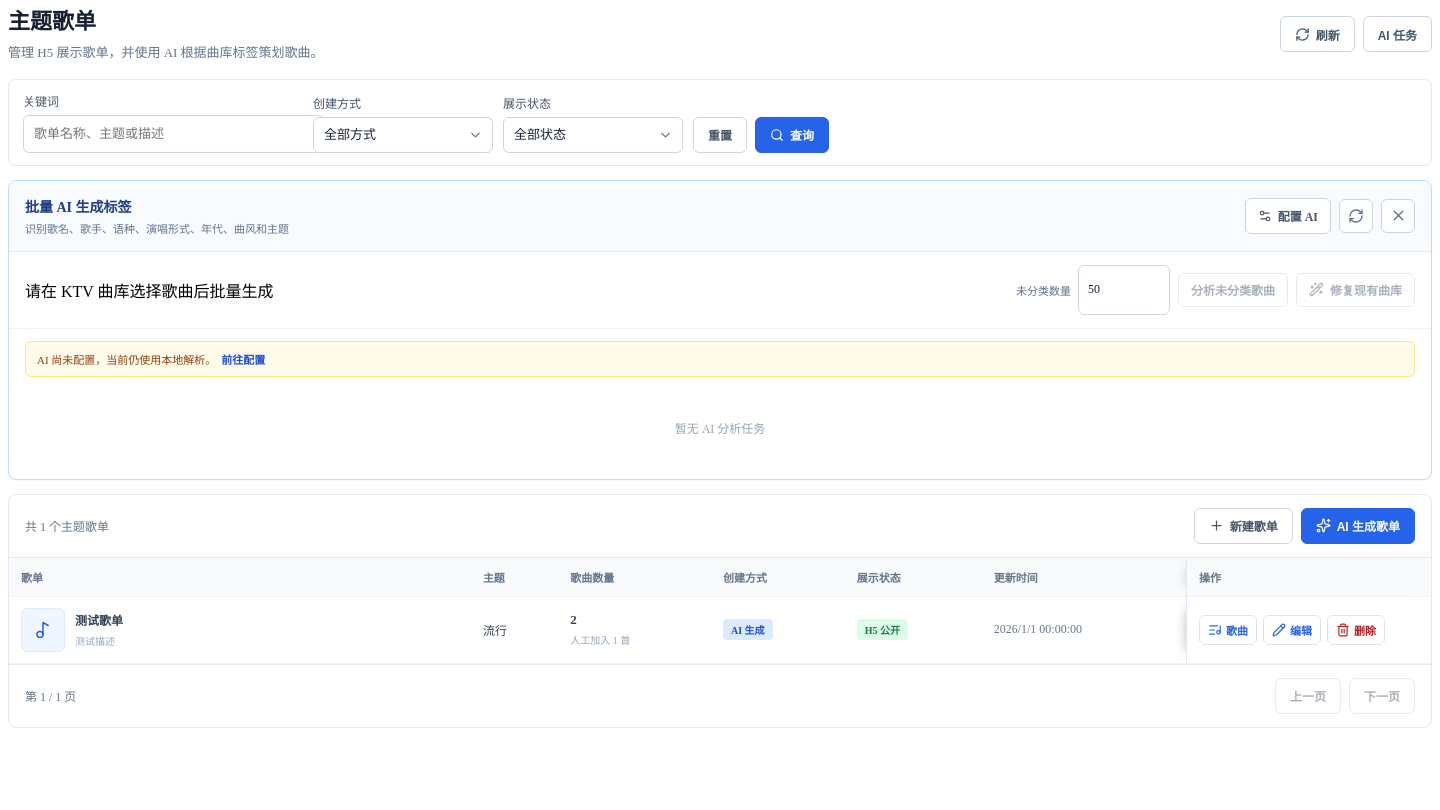
Test: AiLibraryView › updates an existing playlist and defaults missing optional detail fields
Click the button titled "编辑歌单". click: (1292, 630)
box: x1=1263 y1=614 x2=1321 y2=644
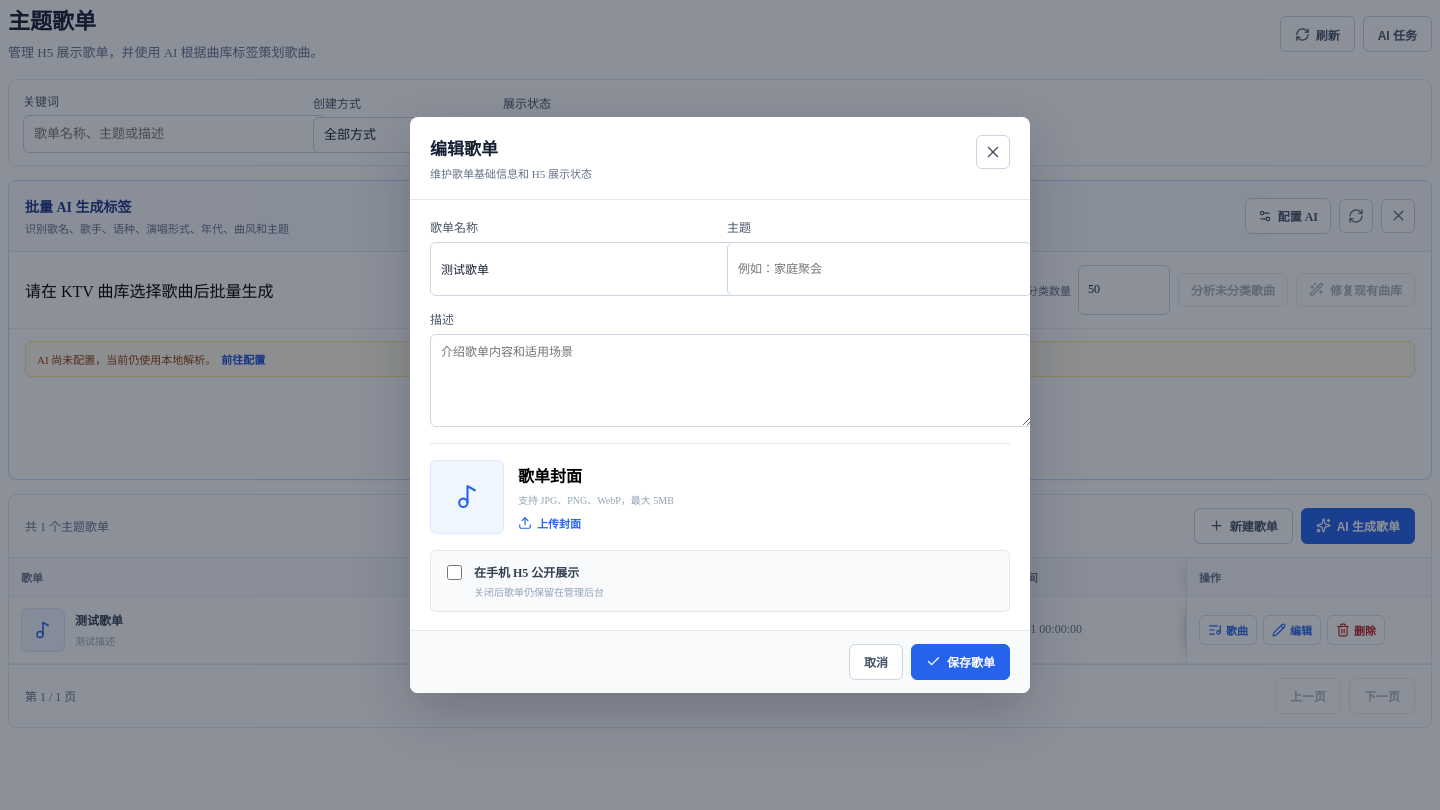
Check: the field labelled "歌单名称" holds "测试歌单"
Check: the field labelled "主题" is empty, box x1=727 y1=242 x2=1030 y2=296
Check: the text box labelled "描述" is empty, box x1=430 y1=334 x2=1030 y2=427
Replace the text in the field labelled "歌单名称" with "更新后的歌单". click: (582, 269)
box: x1=430 y1=242 x2=735 y2=296
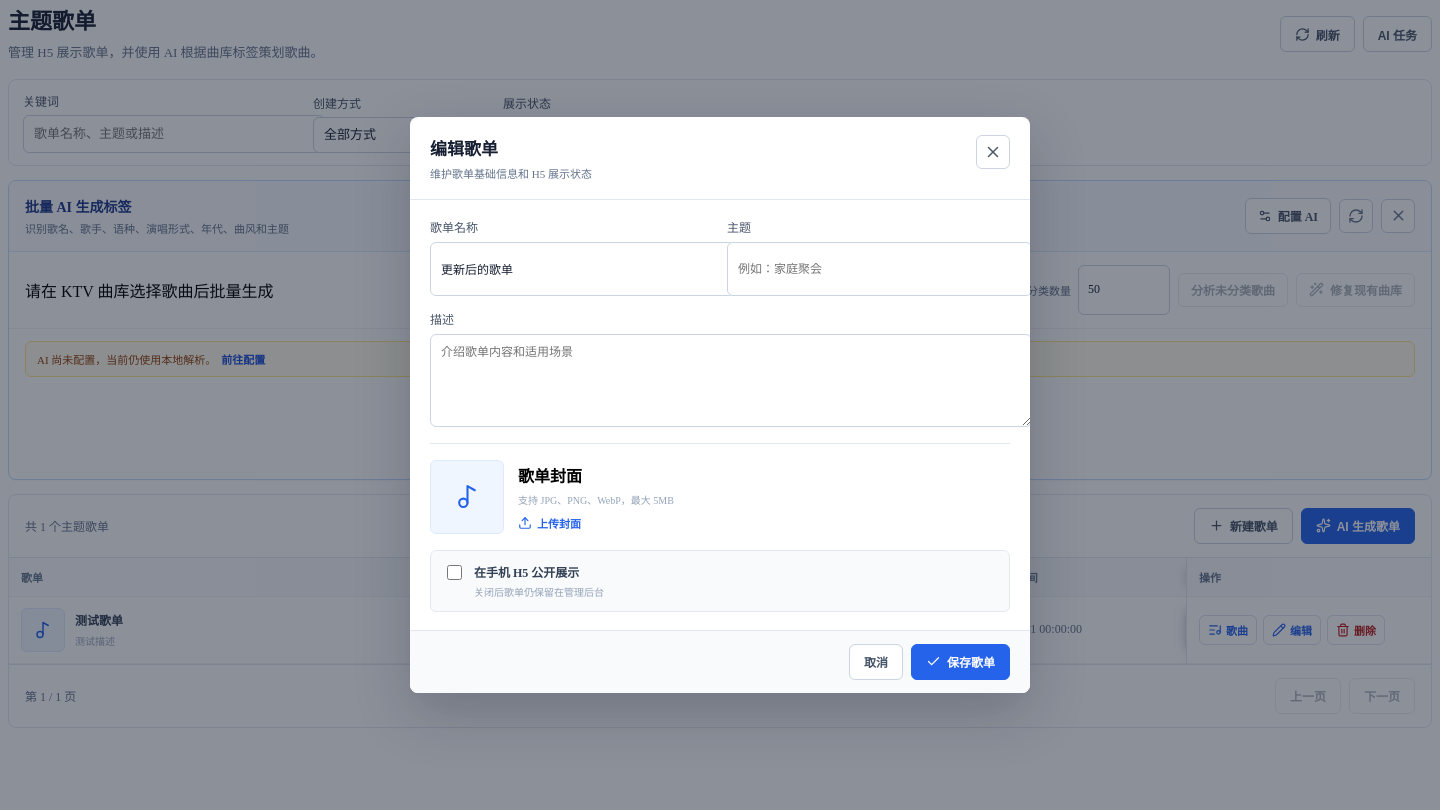
Type "新主题" into the field labelled "主题". click: (880, 269)
box: x1=727 y1=242 x2=1032 y2=296
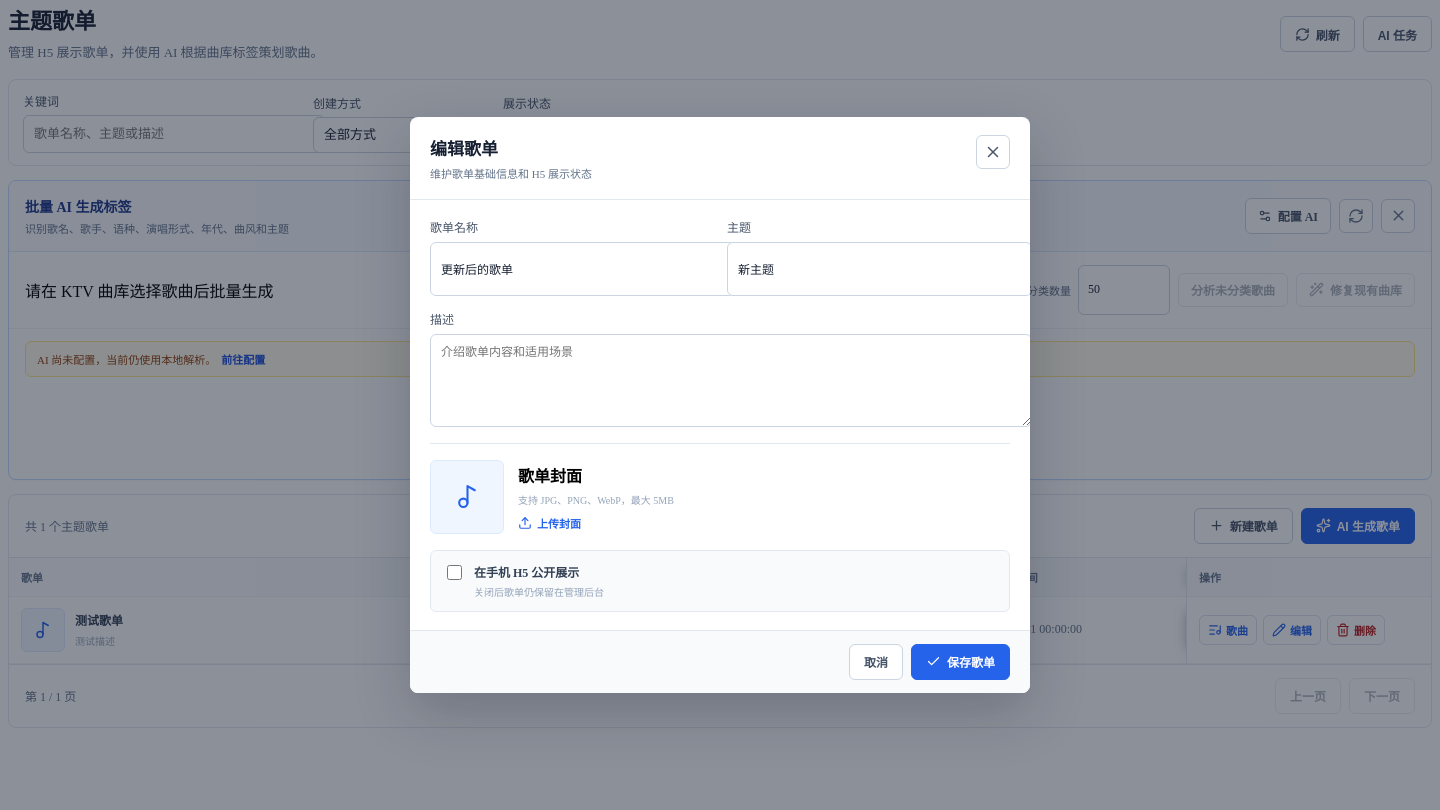
Type "新说明" into the text box labelled "描述". click: (731, 380)
box: x1=430 y1=334 x2=1032 y2=427
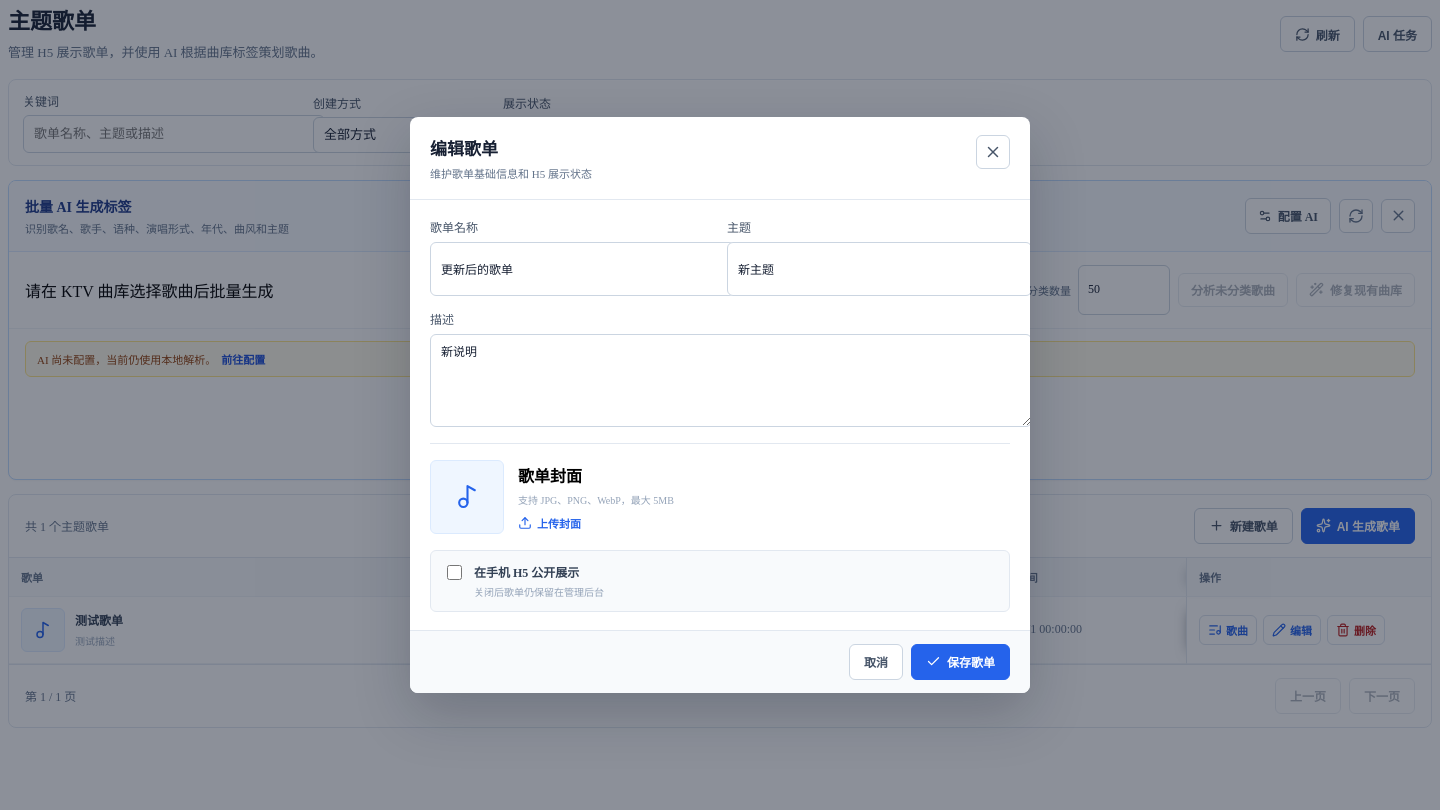
Click the checkbox labelled "在手机 H5 公开展示 关闭后歌单仍保留在管理后台". click: (454, 572)
box: x1=447 y1=565 x2=462 y2=580
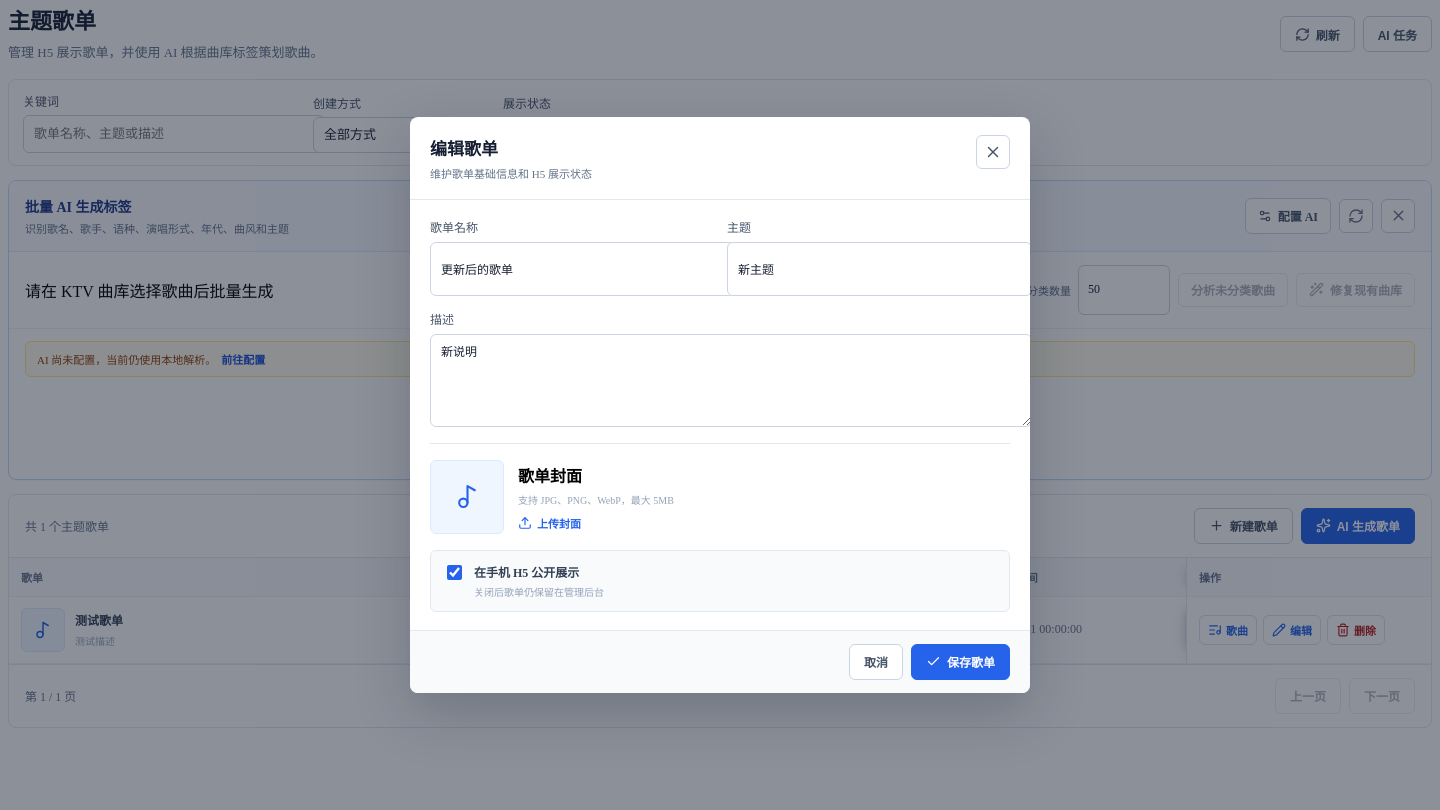
Click the button "保存歌单". click: (960, 662)
box: x1=911 y1=644 x2=1010 y2=680
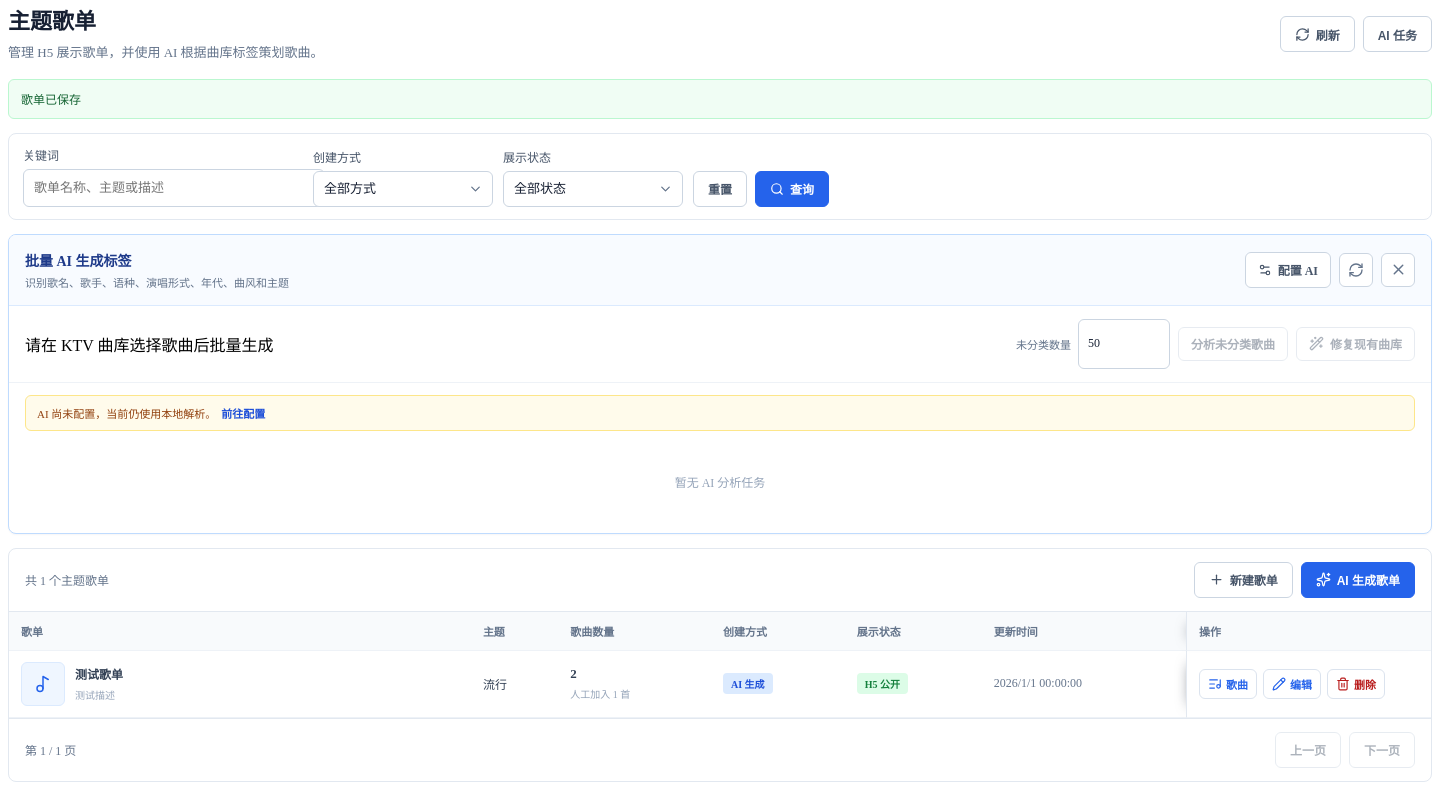
Check: the dialog with class "editor-modal" is gone
